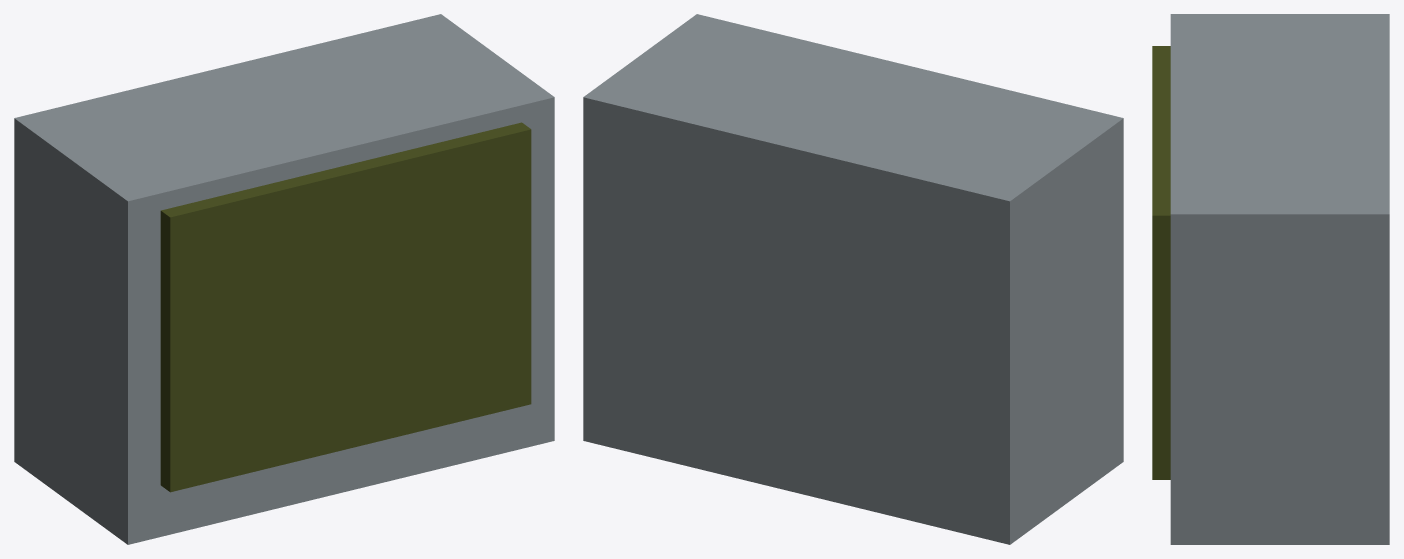
File: apc_ammo_rack.glb
3 views of the same model, side by side, from view 1: azimuth 30°, elevation 25°; view 2: azimuth 150°, elevation 25°; view 3: azimuth 270°, elevation 25° (orthographic). The views are drawn at different scales.
Visible parts, largest first — view 1: body:compound; view 2: body:compound; view 3: body:compound.
Boxes of the visible parts, x1,y1,x2,y2 form: body:compound: (14, 14, 554, 544); body:compound: (583, 14, 1123, 544); body:compound: (1152, 14, 1389, 544).
Size of the model in its own units: 0.8125 by 0.625 by 0.4062.
